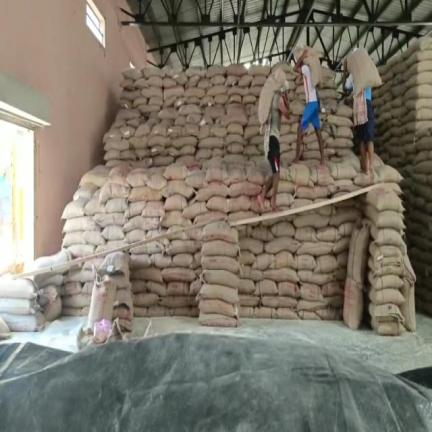Zone-Counting: (343, 48, 381, 171), (257, 69, 289, 209), (294, 47, 323, 164)
